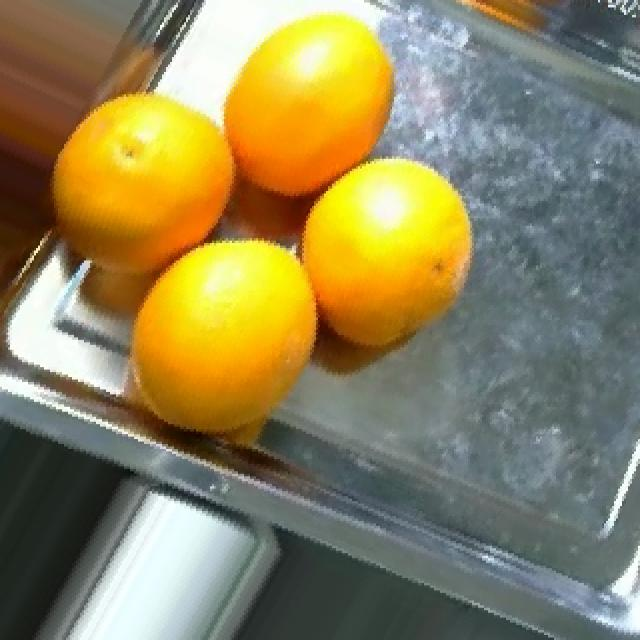Fruit: (434, 0, 600, 52)
